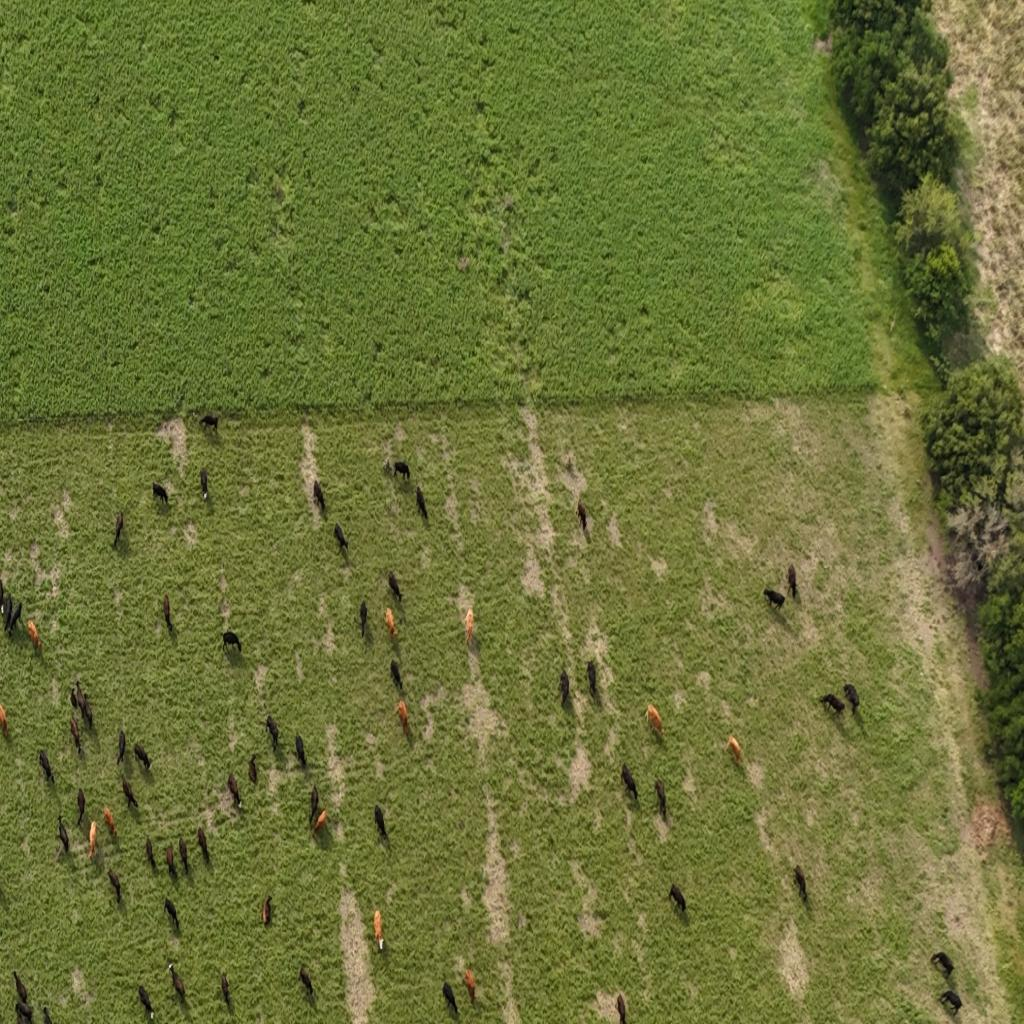cow: (176, 829, 199, 884), (71, 681, 94, 731), (1, 600, 23, 641), (197, 827, 216, 874), (621, 763, 639, 803), (931, 950, 955, 978), (169, 965, 186, 1003), (819, 692, 845, 716), (938, 990, 962, 1015), (646, 703, 663, 738), (442, 980, 458, 1016), (138, 984, 154, 1020), (654, 778, 667, 820), (122, 775, 138, 809), (374, 804, 388, 842), (669, 883, 686, 914), (164, 897, 179, 932), (134, 743, 152, 772), (396, 700, 410, 737), (103, 805, 118, 839), (299, 965, 314, 999), (39, 750, 54, 784), (266, 714, 280, 750), (228, 772, 241, 810), (763, 588, 785, 610), (794, 865, 807, 902), (222, 630, 242, 654), (843, 683, 859, 713), (333, 523, 348, 555), (727, 734, 742, 766), (14, 970, 28, 1004), (108, 868, 121, 904), (388, 571, 403, 602), (309, 784, 320, 826), (57, 816, 69, 854), (15, 999, 33, 1024), (220, 971, 232, 1008), (390, 658, 403, 692), (373, 910, 384, 950), (416, 486, 428, 522), (464, 968, 476, 1004), (559, 669, 570, 708), (586, 660, 597, 698), (70, 716, 81, 754), (0, 702, 11, 740), (3, 596, 14, 634), (313, 479, 325, 512), (786, 563, 797, 599), (385, 606, 397, 639), (313, 808, 327, 836), (112, 512, 123, 547), (76, 787, 86, 825), (974, 549, 989, 574), (295, 733, 306, 767), (163, 594, 173, 631), (88, 820, 97, 861), (0, 582, 10, 618), (393, 460, 410, 481), (152, 482, 168, 504), (576, 500, 587, 532), (116, 729, 126, 764), (146, 835, 156, 870), (199, 414, 218, 432), (359, 599, 368, 637), (465, 607, 474, 645), (166, 845, 176, 879), (616, 992, 626, 1024), (262, 894, 272, 926), (248, 754, 258, 786), (200, 468, 208, 501), (70, 683, 79, 712), (383, 457, 392, 476)
